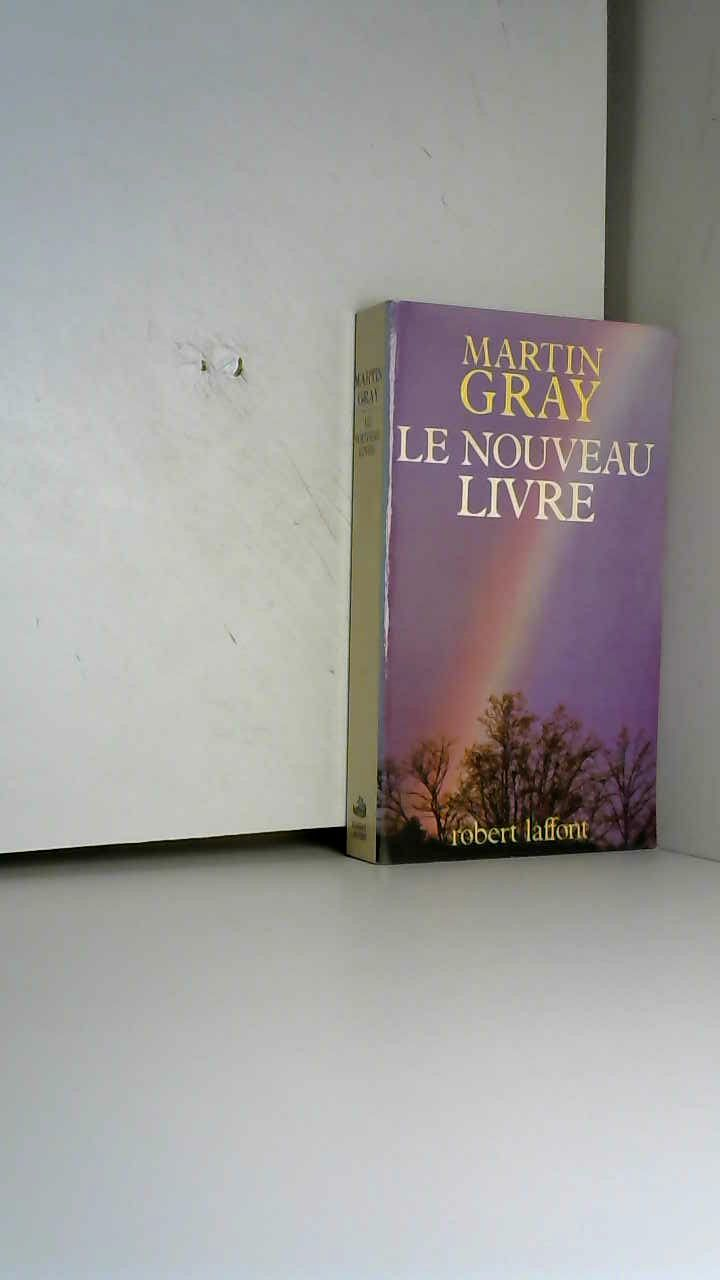book: (320, 270, 720, 887)
